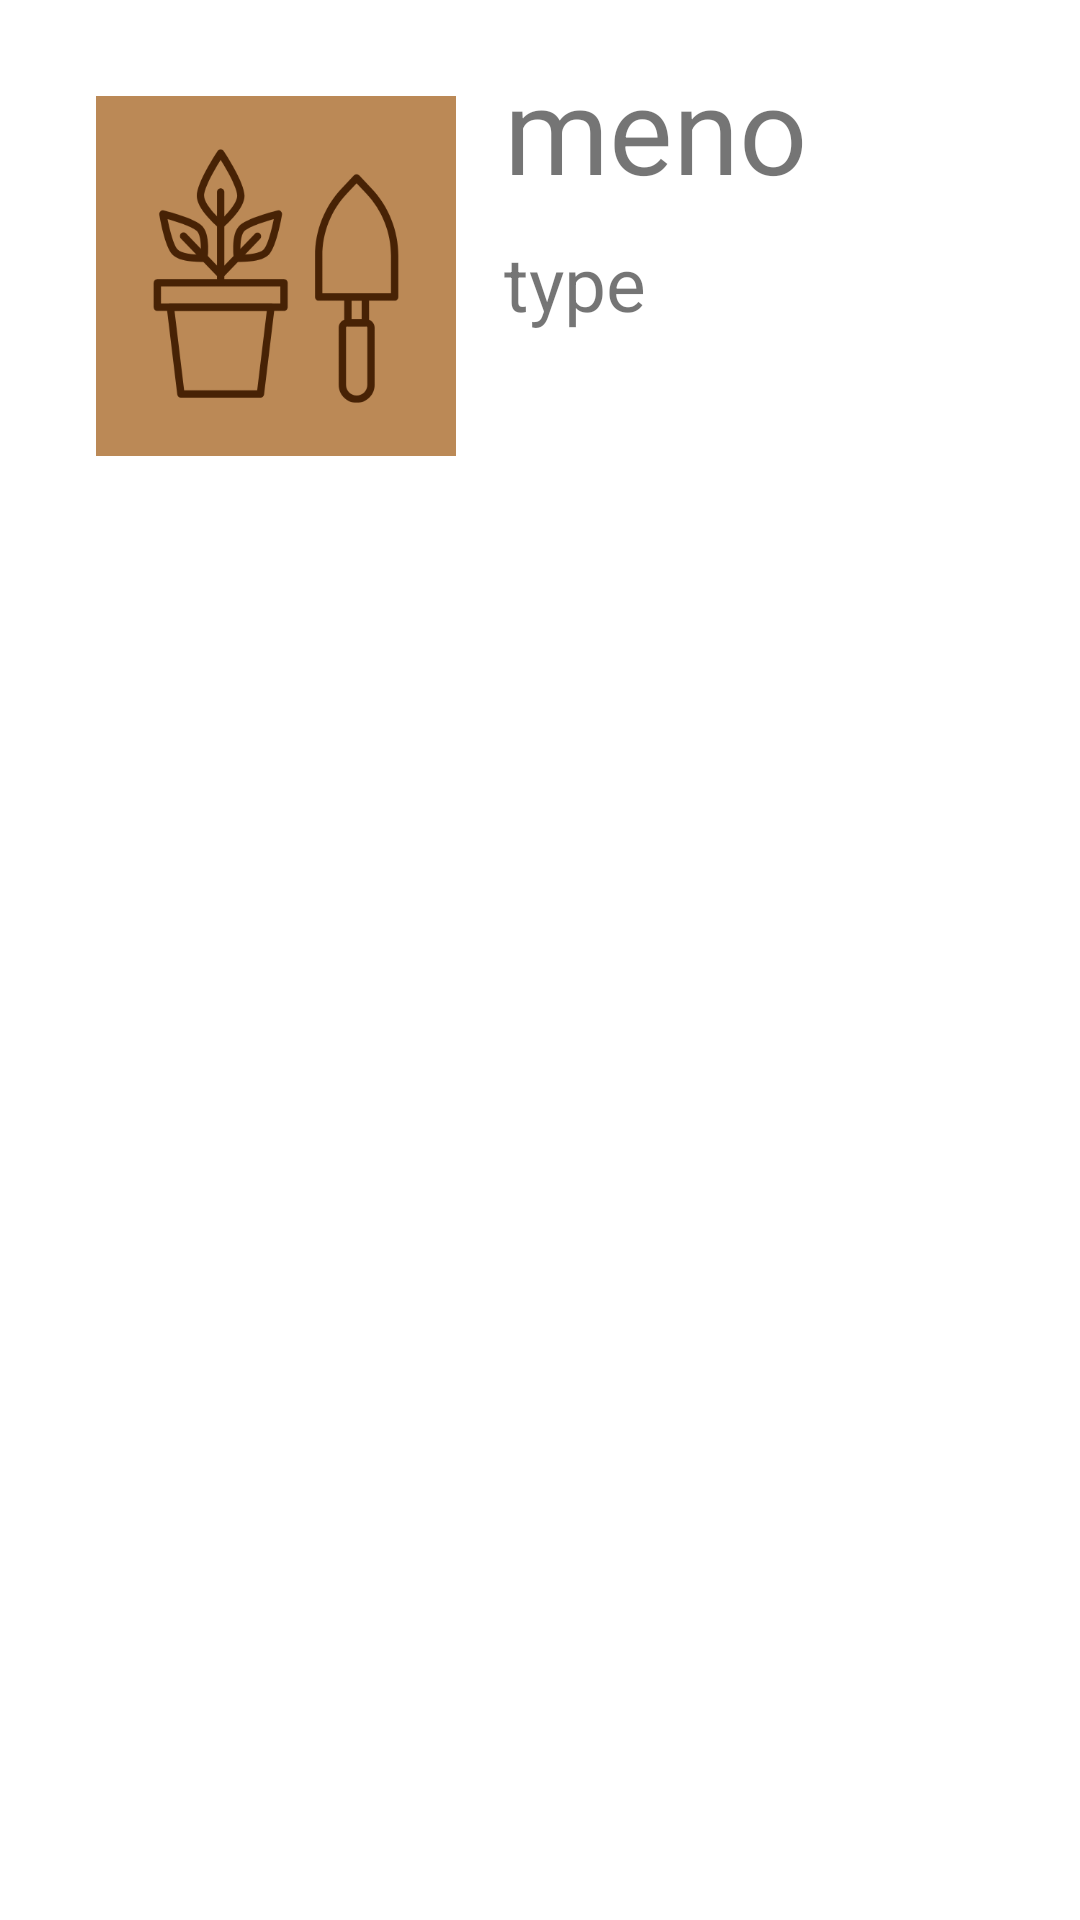

Point at icon controls on the screen. Image size 1080px x 1920px, points as (x=x, y=y).
repot: (x=276, y=276)
